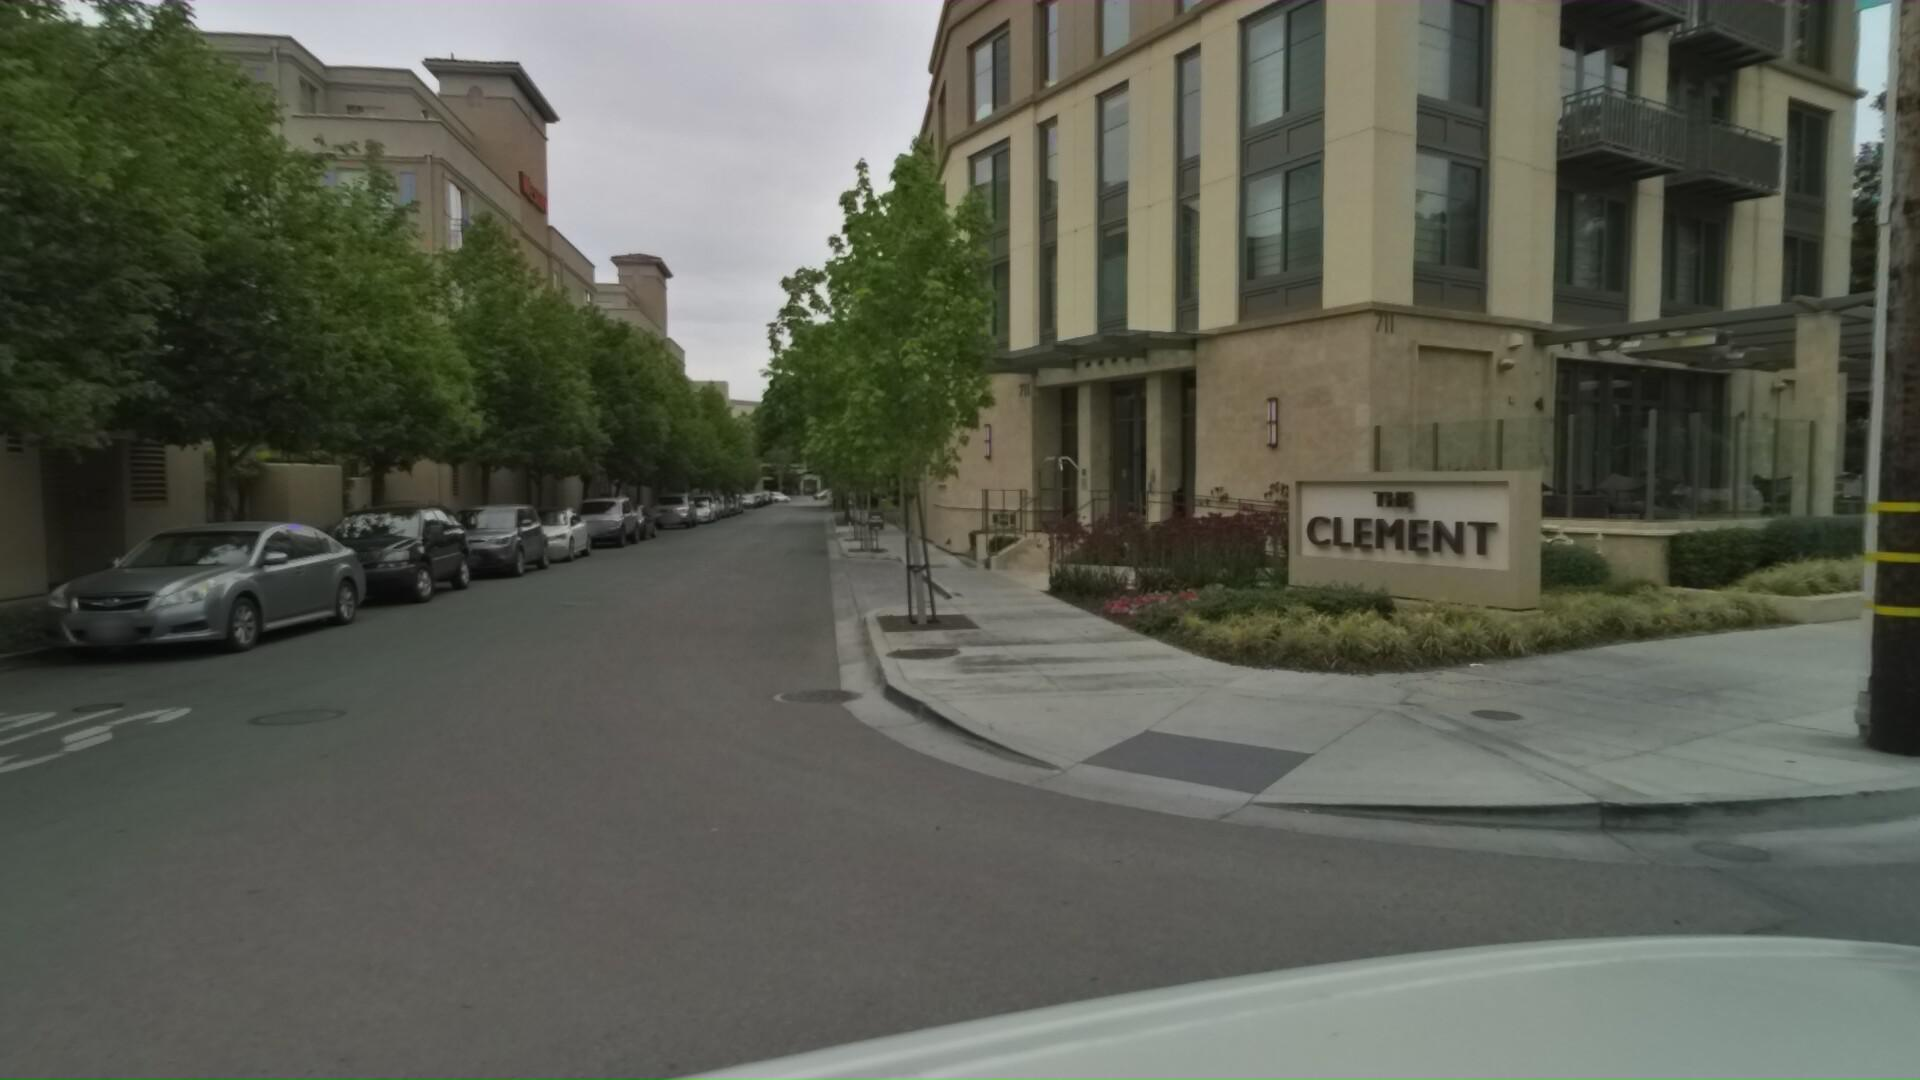car: (51, 508, 413, 684), (307, 495, 512, 615), (444, 496, 574, 582), (506, 498, 612, 567), (576, 491, 657, 549), (609, 495, 673, 541), (655, 487, 708, 529), (682, 495, 725, 521), (691, 489, 727, 517), (703, 495, 737, 517), (713, 491, 742, 512)
